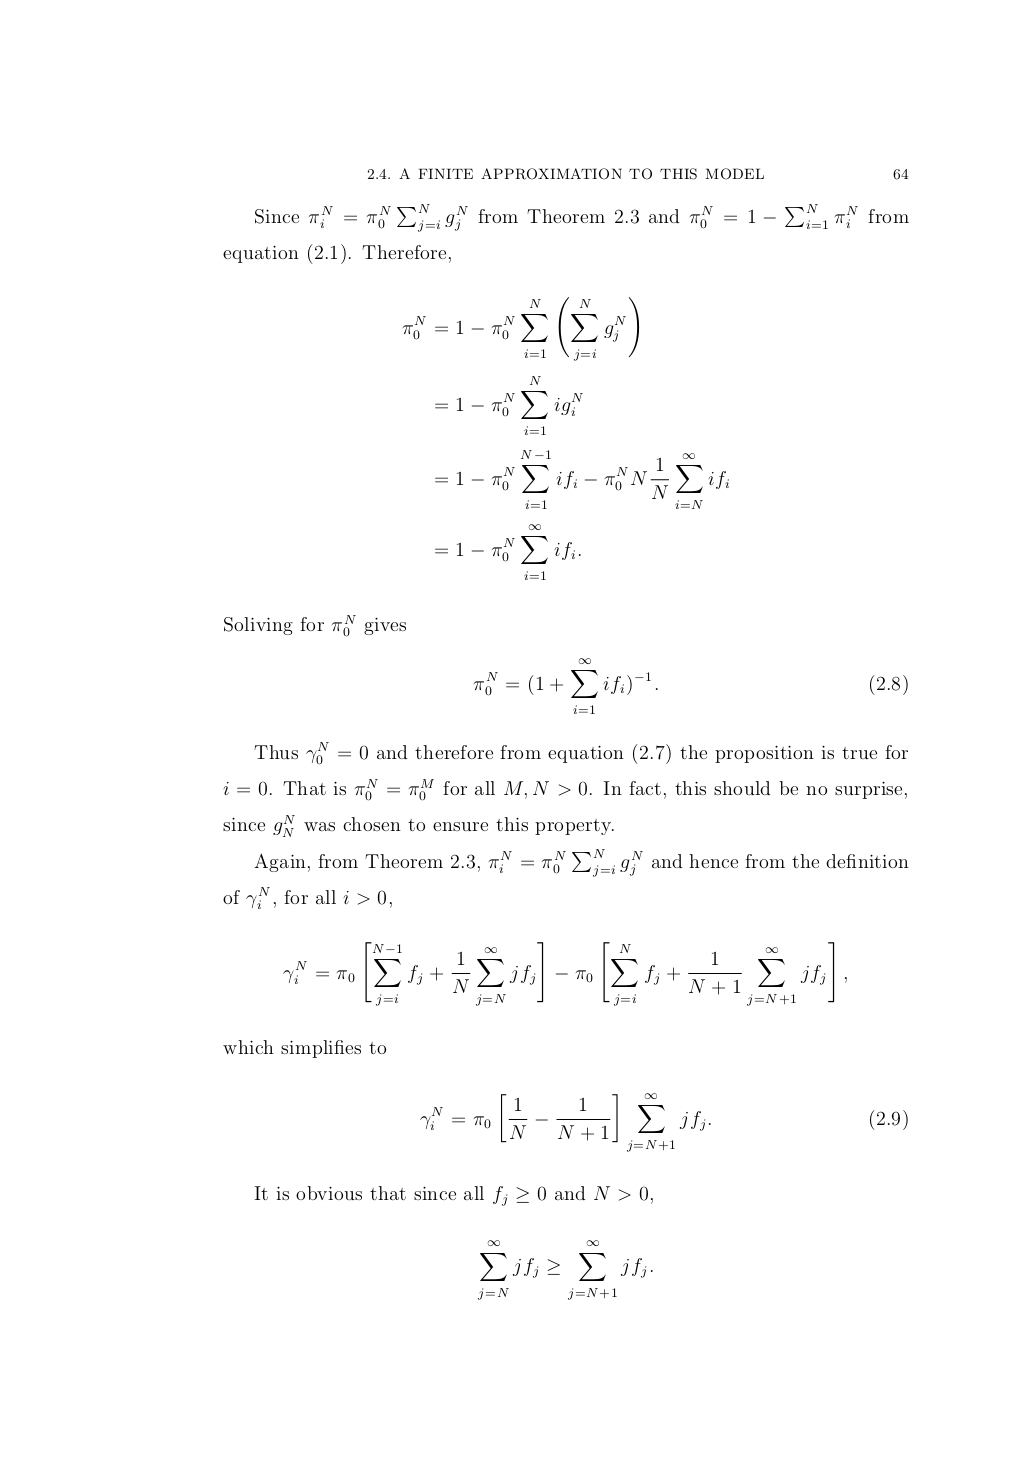formula: (283, 941, 846, 1006), (420, 1091, 907, 1152), (473, 658, 907, 713), (435, 450, 728, 509), (402, 296, 639, 361), (476, 1240, 652, 1299), (435, 376, 582, 434), (435, 524, 580, 579)
